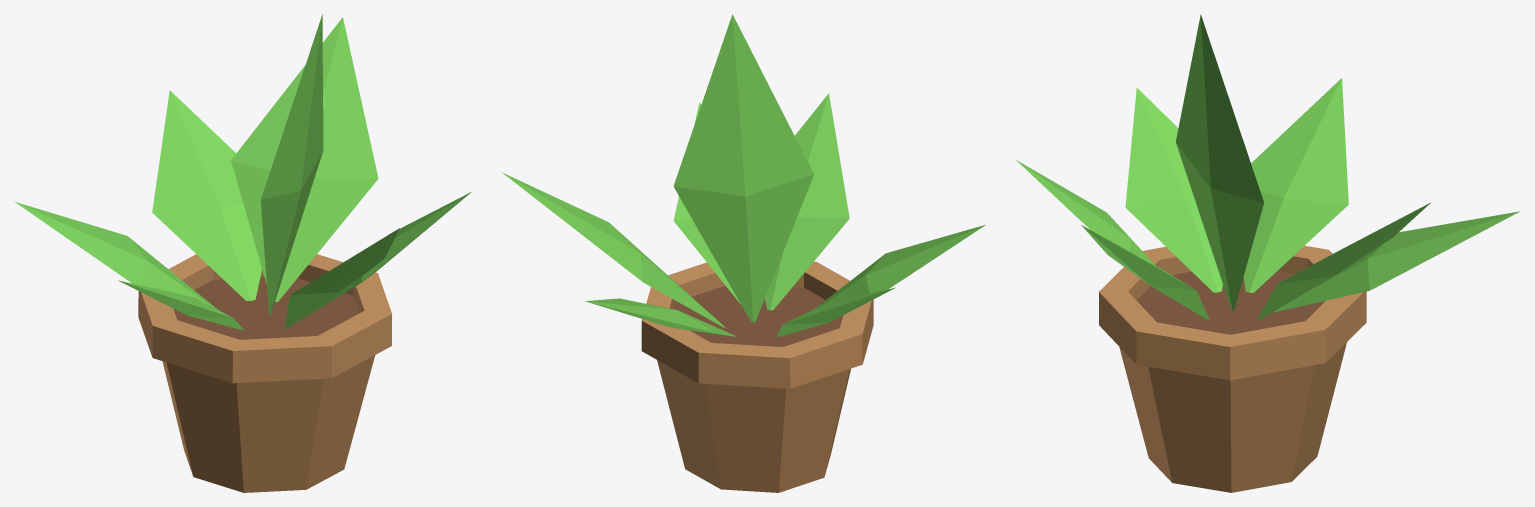
Rendered from plant.fbx.
3 renders of one model, left to right at view 1: azimuth 30°, elevation 25°; view 2: azimuth 150°, elevation 25°; view 3: azimuth 270°, elevation 25°, orthographic. The views are drawn at different scales.
Parts seen in each view (by area): view 1: plant; view 2: plant; view 3: plant.
Part boxes in pixels (x1=…): plant: x1=14, y1=14, x2=471, y2=492; plant: x1=501, y1=14, x2=985, y2=492; plant: x1=1016, y1=14, x2=1519, y2=492.
Bounding box in the file's own units: 0.3007 × 0.3455 × 0.3408.
